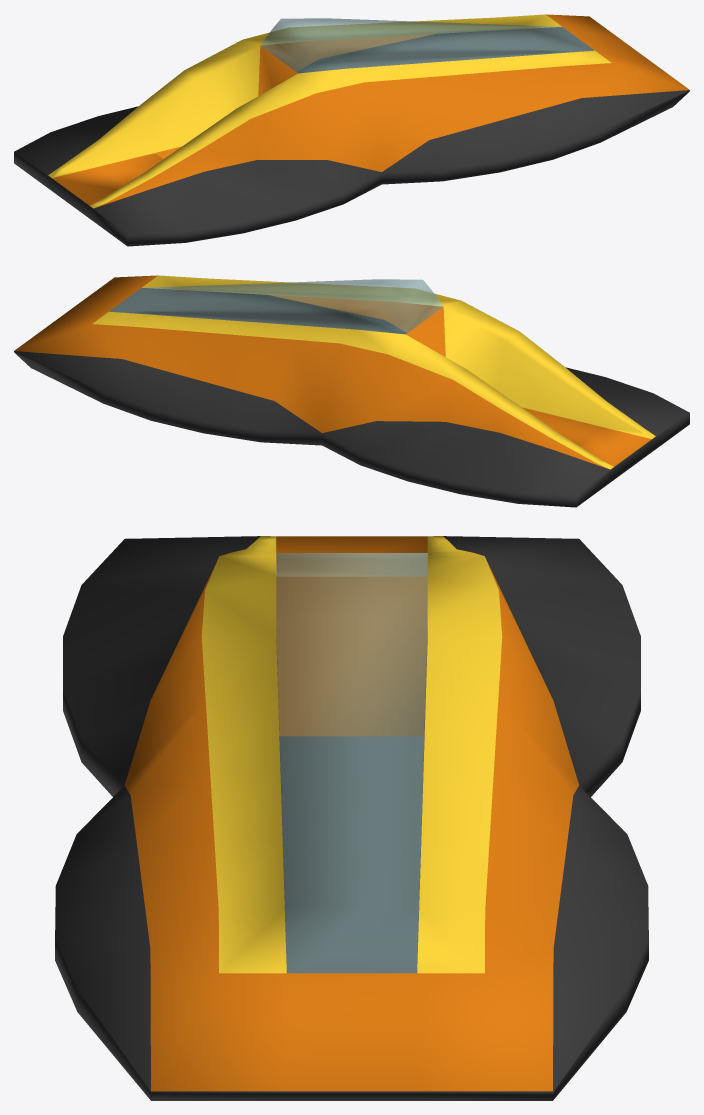
File: machine0.obj
3 views of the same model, one above another, from view 1: azimuth 30°, elevation 25°; view 2: azimuth 150°, elevation 25°; view 3: azimuth 270°, elevation 25° (orthographic). The views are drawn at different scales.
Parts seen in each view (by area): view 1: Mesh_Box001; view 2: Mesh_Box001; view 3: Mesh_Box001.
Boxes of the visible parts, x1=… form: Mesh_Box001: x1=14, y1=14, x2=689, y2=246; Mesh_Box001: x1=14, y1=275, x2=689, y2=507; Mesh_Box001: x1=55, y1=536, x2=648, y2=1100.
Bounding box in the file's own units: 69.53 × 13.59 × 31.43.
